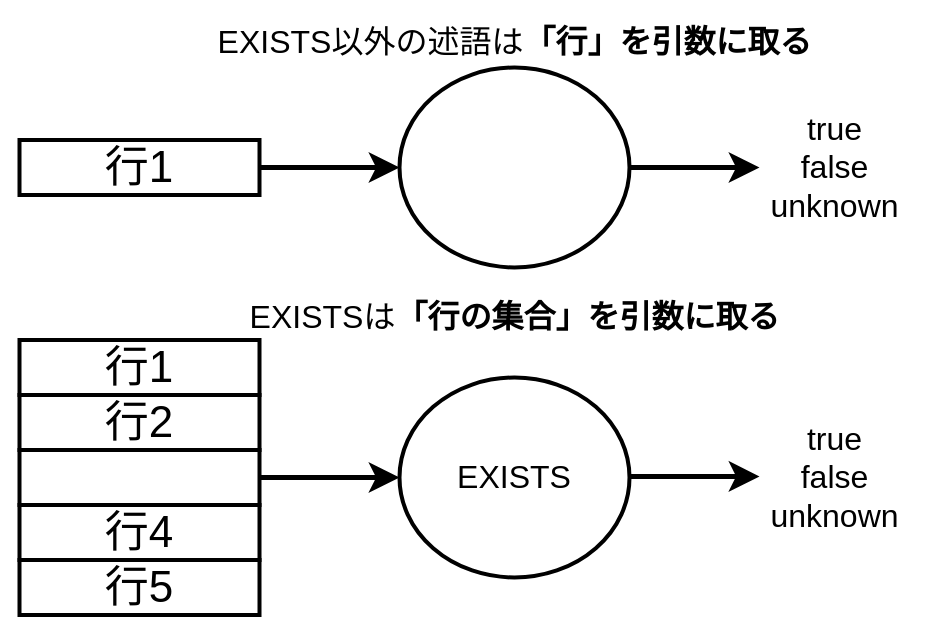
Some shapes in this 926 by 634 pixel diagram are drawn without their labels. Each missing label, with the centre of its shape:
= > < LIKE BETWEEN IN: pixel 514 167
行3: pixel 139 477
